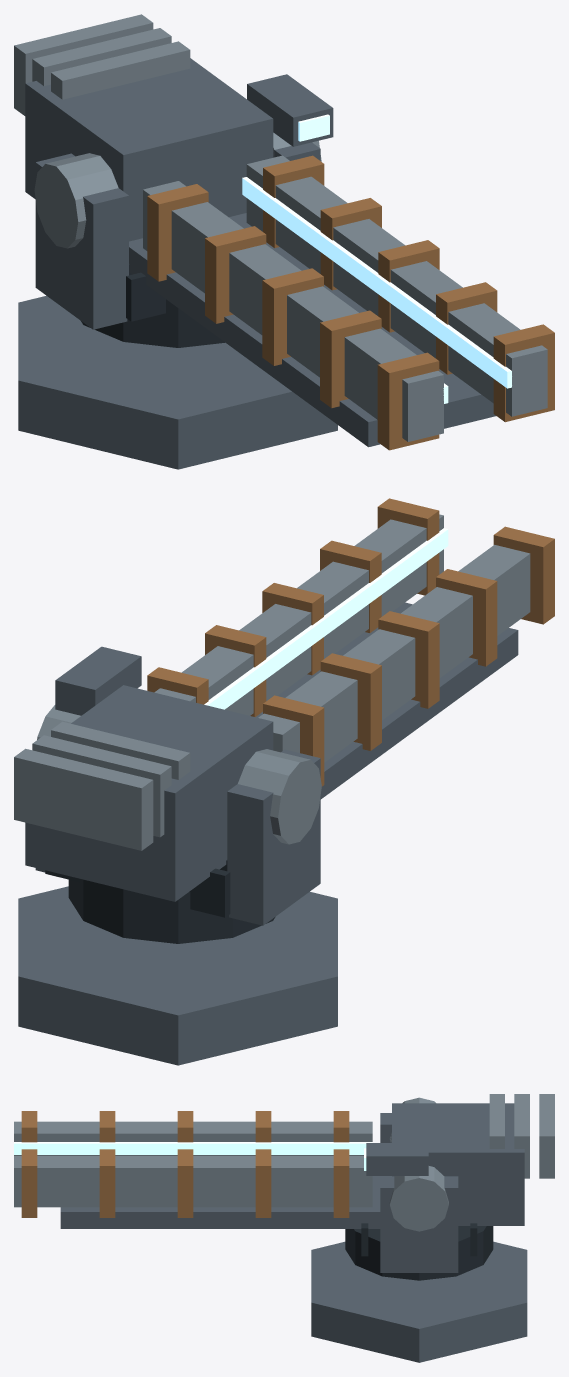
File: railgun_t2_d0.meshopt.glb
The picture shows the model from 3 angles, top to bottom: view 1: azimuth 30°, elevation 25°; view 2: azimuth 150°, elevation 25°; view 3: azimuth 270°, elevation 25°; orthographic projection. The views are drawn at different scales.
Parts seen in each view (by area): view 1: RECOIL_ARMOR_GEOMETRY, BASE_ARMOR_GEOMETRY, YAW_ARMOR_GEOMETRY, RECOIL_SIGNAL_GEOMETRY; view 2: RECOIL_ARMOR_GEOMETRY, BASE_ARMOR_GEOMETRY, YAW_ARMOR_GEOMETRY, RECOIL_SIGNAL_GEOMETRY; view 3: RECOIL_ARMOR_GEOMETRY, BASE_ARMOR_GEOMETRY, YAW_ARMOR_GEOMETRY, RECOIL_SIGNAL_GEOMETRY.
Boxes of the visible parts, box(x1,y1,x2,y2) form: RECOIL_ARMOR_GEOMETRY: box(14, 14, 554, 450); BASE_ARMOR_GEOMETRY: box(18, 295, 337, 469); YAW_ARMOR_GEOMETRY: box(35, 142, 320, 347); RECOIL_SIGNAL_GEOMETRY: box(242, 114, 511, 403); RECOIL_ARMOR_GEOMETRY: box(14, 498, 554, 917); BASE_ARMOR_GEOMETRY: box(18, 886, 337, 1065); YAW_ARMOR_GEOMETRY: box(35, 749, 320, 943); RECOIL_SIGNAL_GEOMETRY: box(204, 528, 448, 709); RECOIL_ARMOR_GEOMETRY: box(14, 1094, 554, 1256); BASE_ARMOR_GEOMETRY: box(311, 1241, 527, 1362); YAW_ARMOR_GEOMETRY: box(345, 1113, 493, 1280); RECOIL_SIGNAL_GEOMETRY: box(14, 1142, 372, 1170).
Size of the model in its own units: 1.6 by 1.38 by 3.47.
